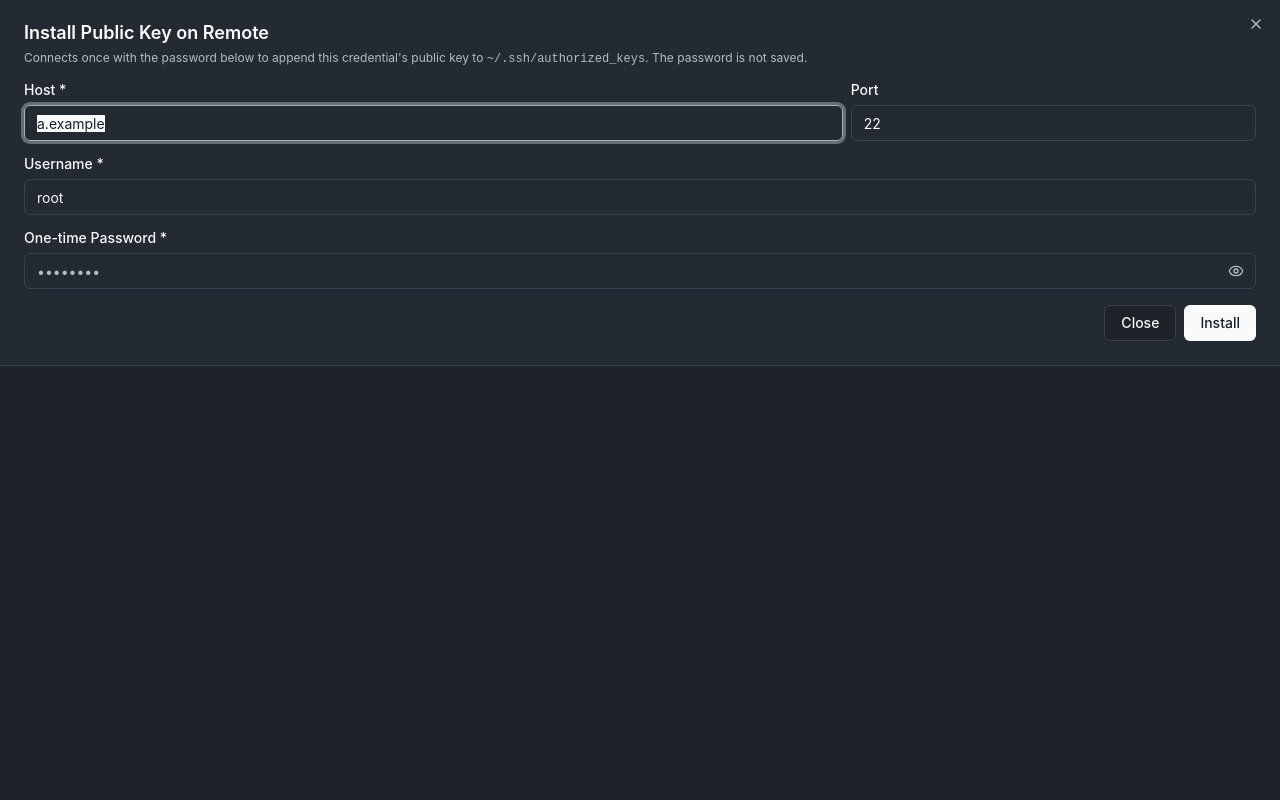
Scenario: InstallKeyDialog › after success, button labels Installed and re-enables on host edit
Type "p" into the password field labelled "One-time Password *" at (640, 271), box top-left (24, 253), bottom-right (1256, 289)
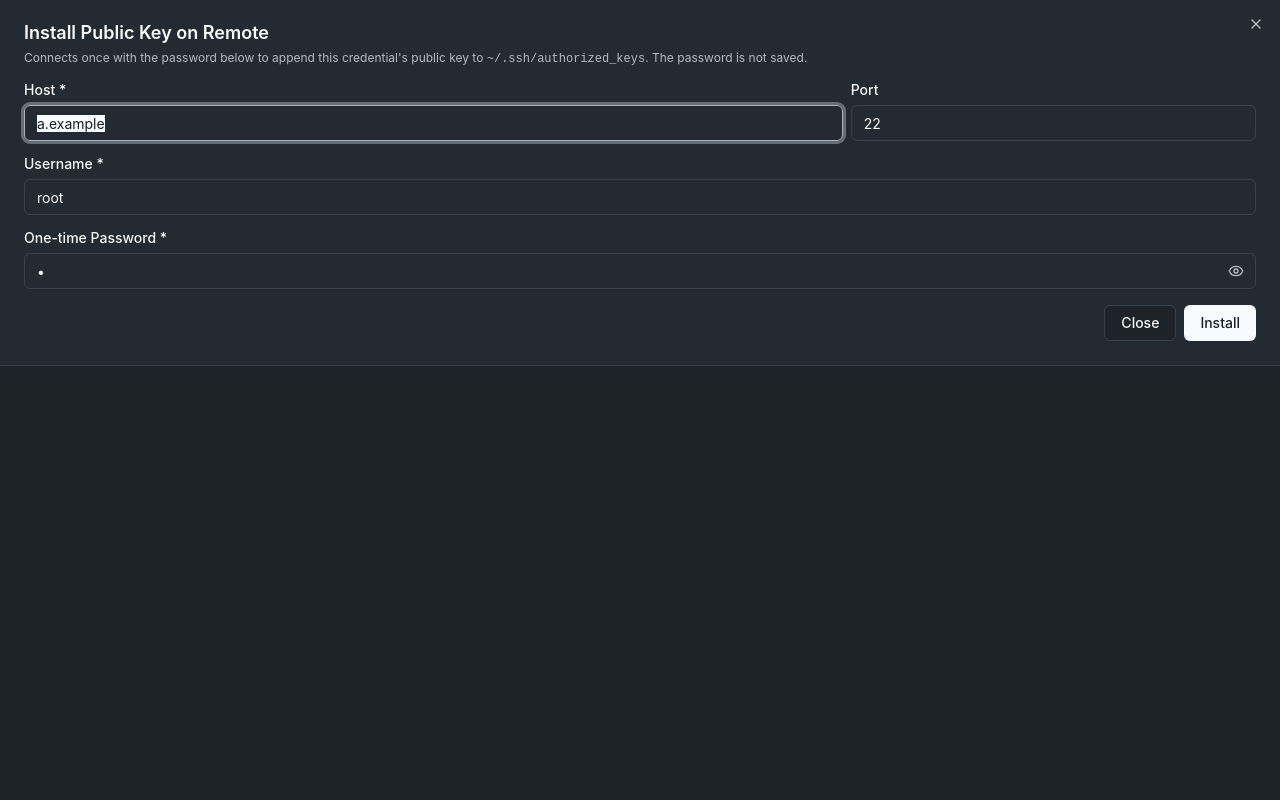
Click the button "Install" at (1220, 323), box top-left (1184, 305), bottom-right (1256, 341)
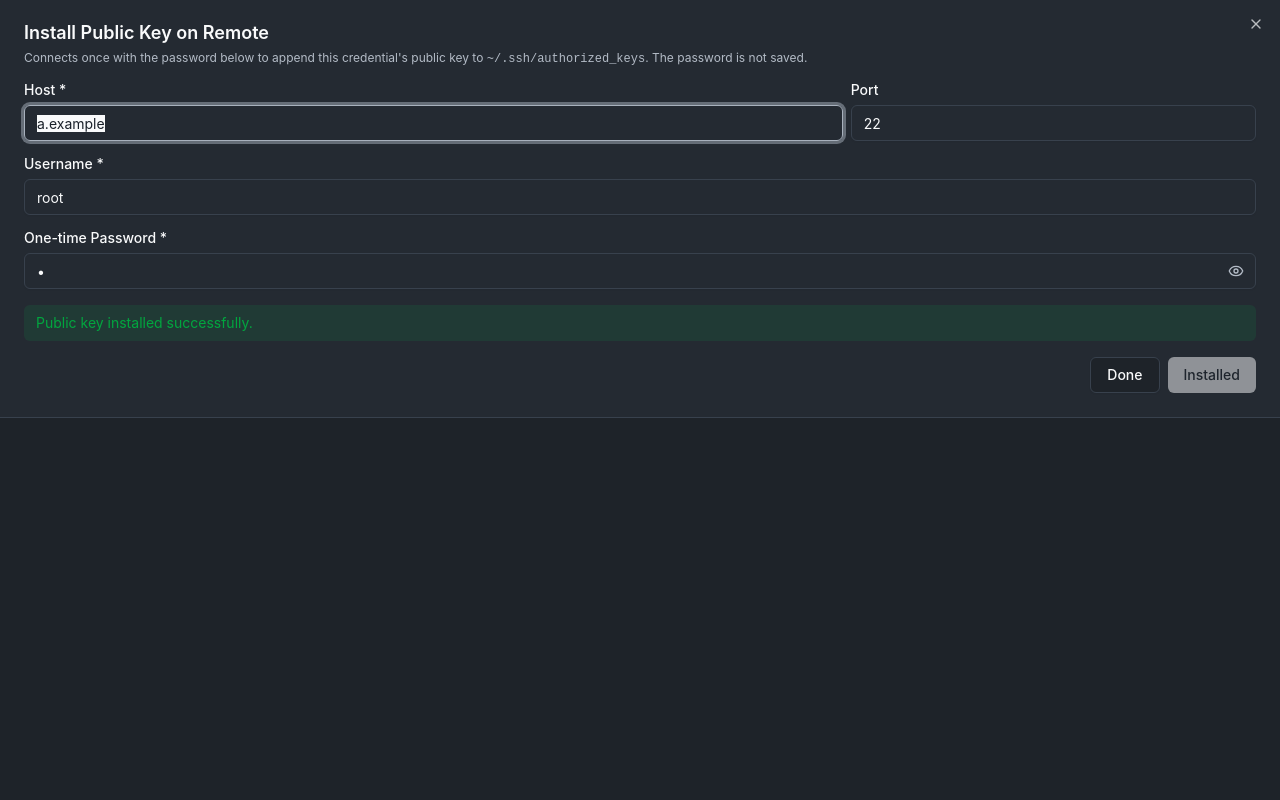
Check: the button "Installed" is disabled, box top-left (1168, 357), bottom-right (1256, 393)
// Editing host re-enables the button.
Replace the text in the field labelled "Host *" with "b.example" at (433, 123), box top-left (24, 105), bottom-right (843, 141)
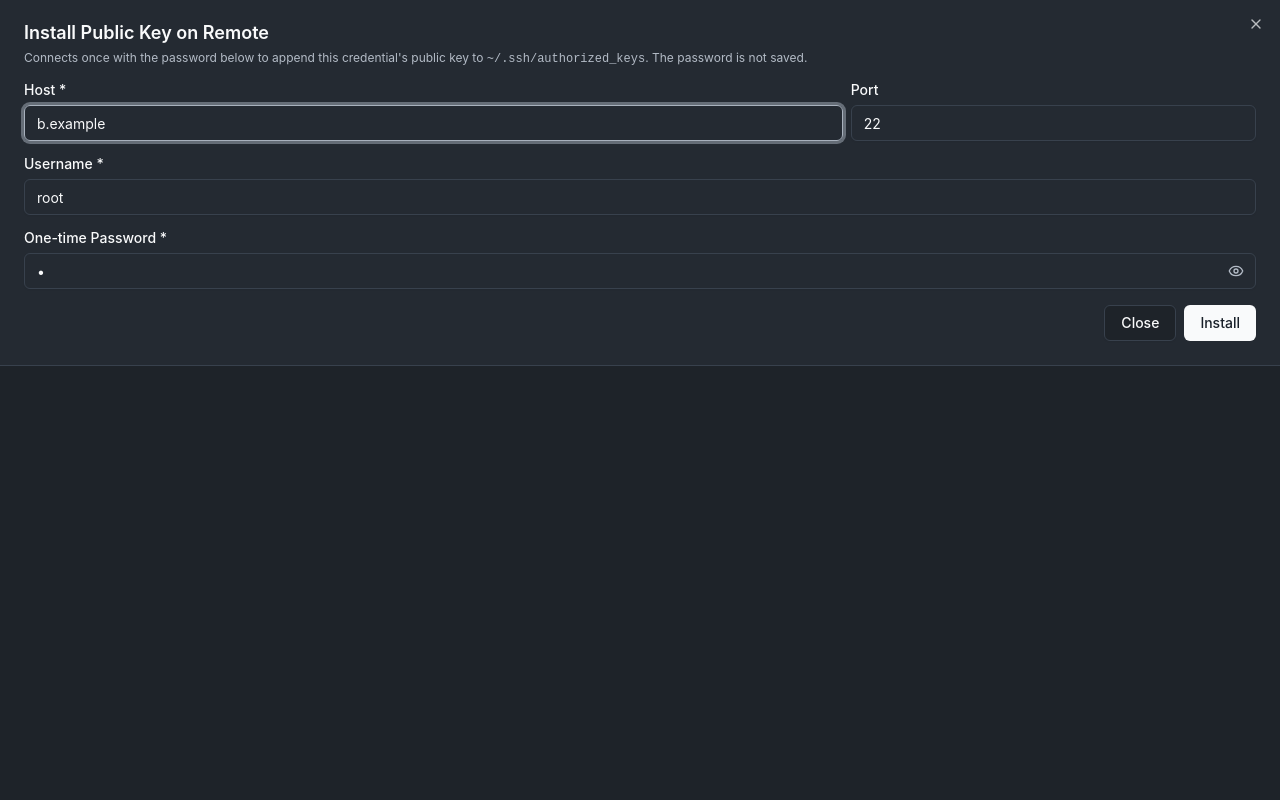
Check: the button "Install" is enabled, box top-left (1184, 305), bottom-right (1256, 341)
